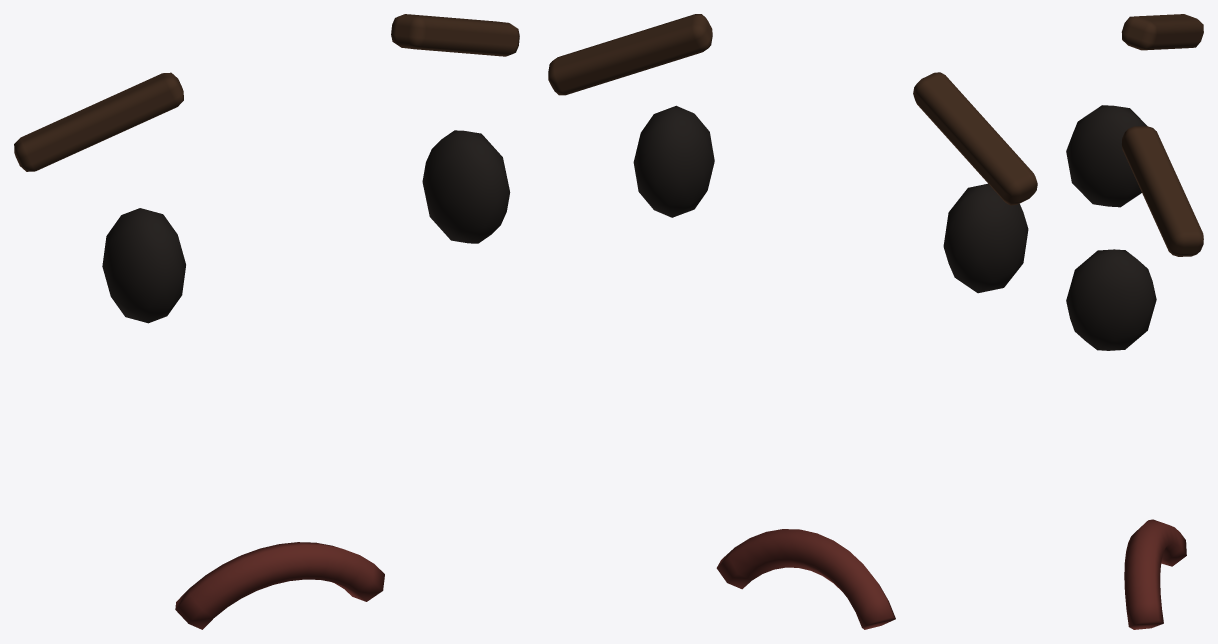
File: 08-worried.glb
The picture shows the model from 3 angles, left to right: view 1: azimuth 30°, elevation 25°; view 2: azimuth 150°, elevation 25°; view 3: azimuth 270°, elevation 25°; orthographic projection. The views are drawn at different scales.
Visible parts, largest first — view 1: Face08_Mouth, Face08_Eye1, Face08_Eye-1, Face08_Brow-1, Face08_Brow1; view 2: Face08_Mouth, Face08_Eye-1, Face08_Eye1, Face08_Brow1, Face08_Brow-1; view 3: Face08_Eye1, Face08_Eye-1, Face08_Brow1, Face08_Mouth, Face08_Brow-1.
Boxes of the visible parts, x1,y1,x2,y2 form: Face08_Mouth: [175, 542, 384, 629]; Face08_Eye1: [422, 130, 510, 243]; Face08_Eye-1: [102, 208, 185, 323]; Face08_Brow-1: [14, 72, 183, 171]; Face08_Brow1: [391, 14, 519, 56]; Face08_Mouth: [716, 529, 895, 629]; Face08_Eye-1: [943, 183, 1028, 293]; Face08_Eye1: [633, 105, 714, 217]; Face08_Brow1: [548, 14, 712, 95]; Face08_Brow-1: [913, 72, 1037, 205]; Face08_Eye1: [1066, 249, 1156, 350]; Face08_Eye-1: [1066, 105, 1146, 207]; Face08_Brow1: [1122, 126, 1203, 256]; Face08_Mouth: [1124, 519, 1186, 629]; Face08_Brow-1: [1121, 14, 1203, 50].
Size of the model in its own units: 0.2887 by 0.3159 by 0.0752.
